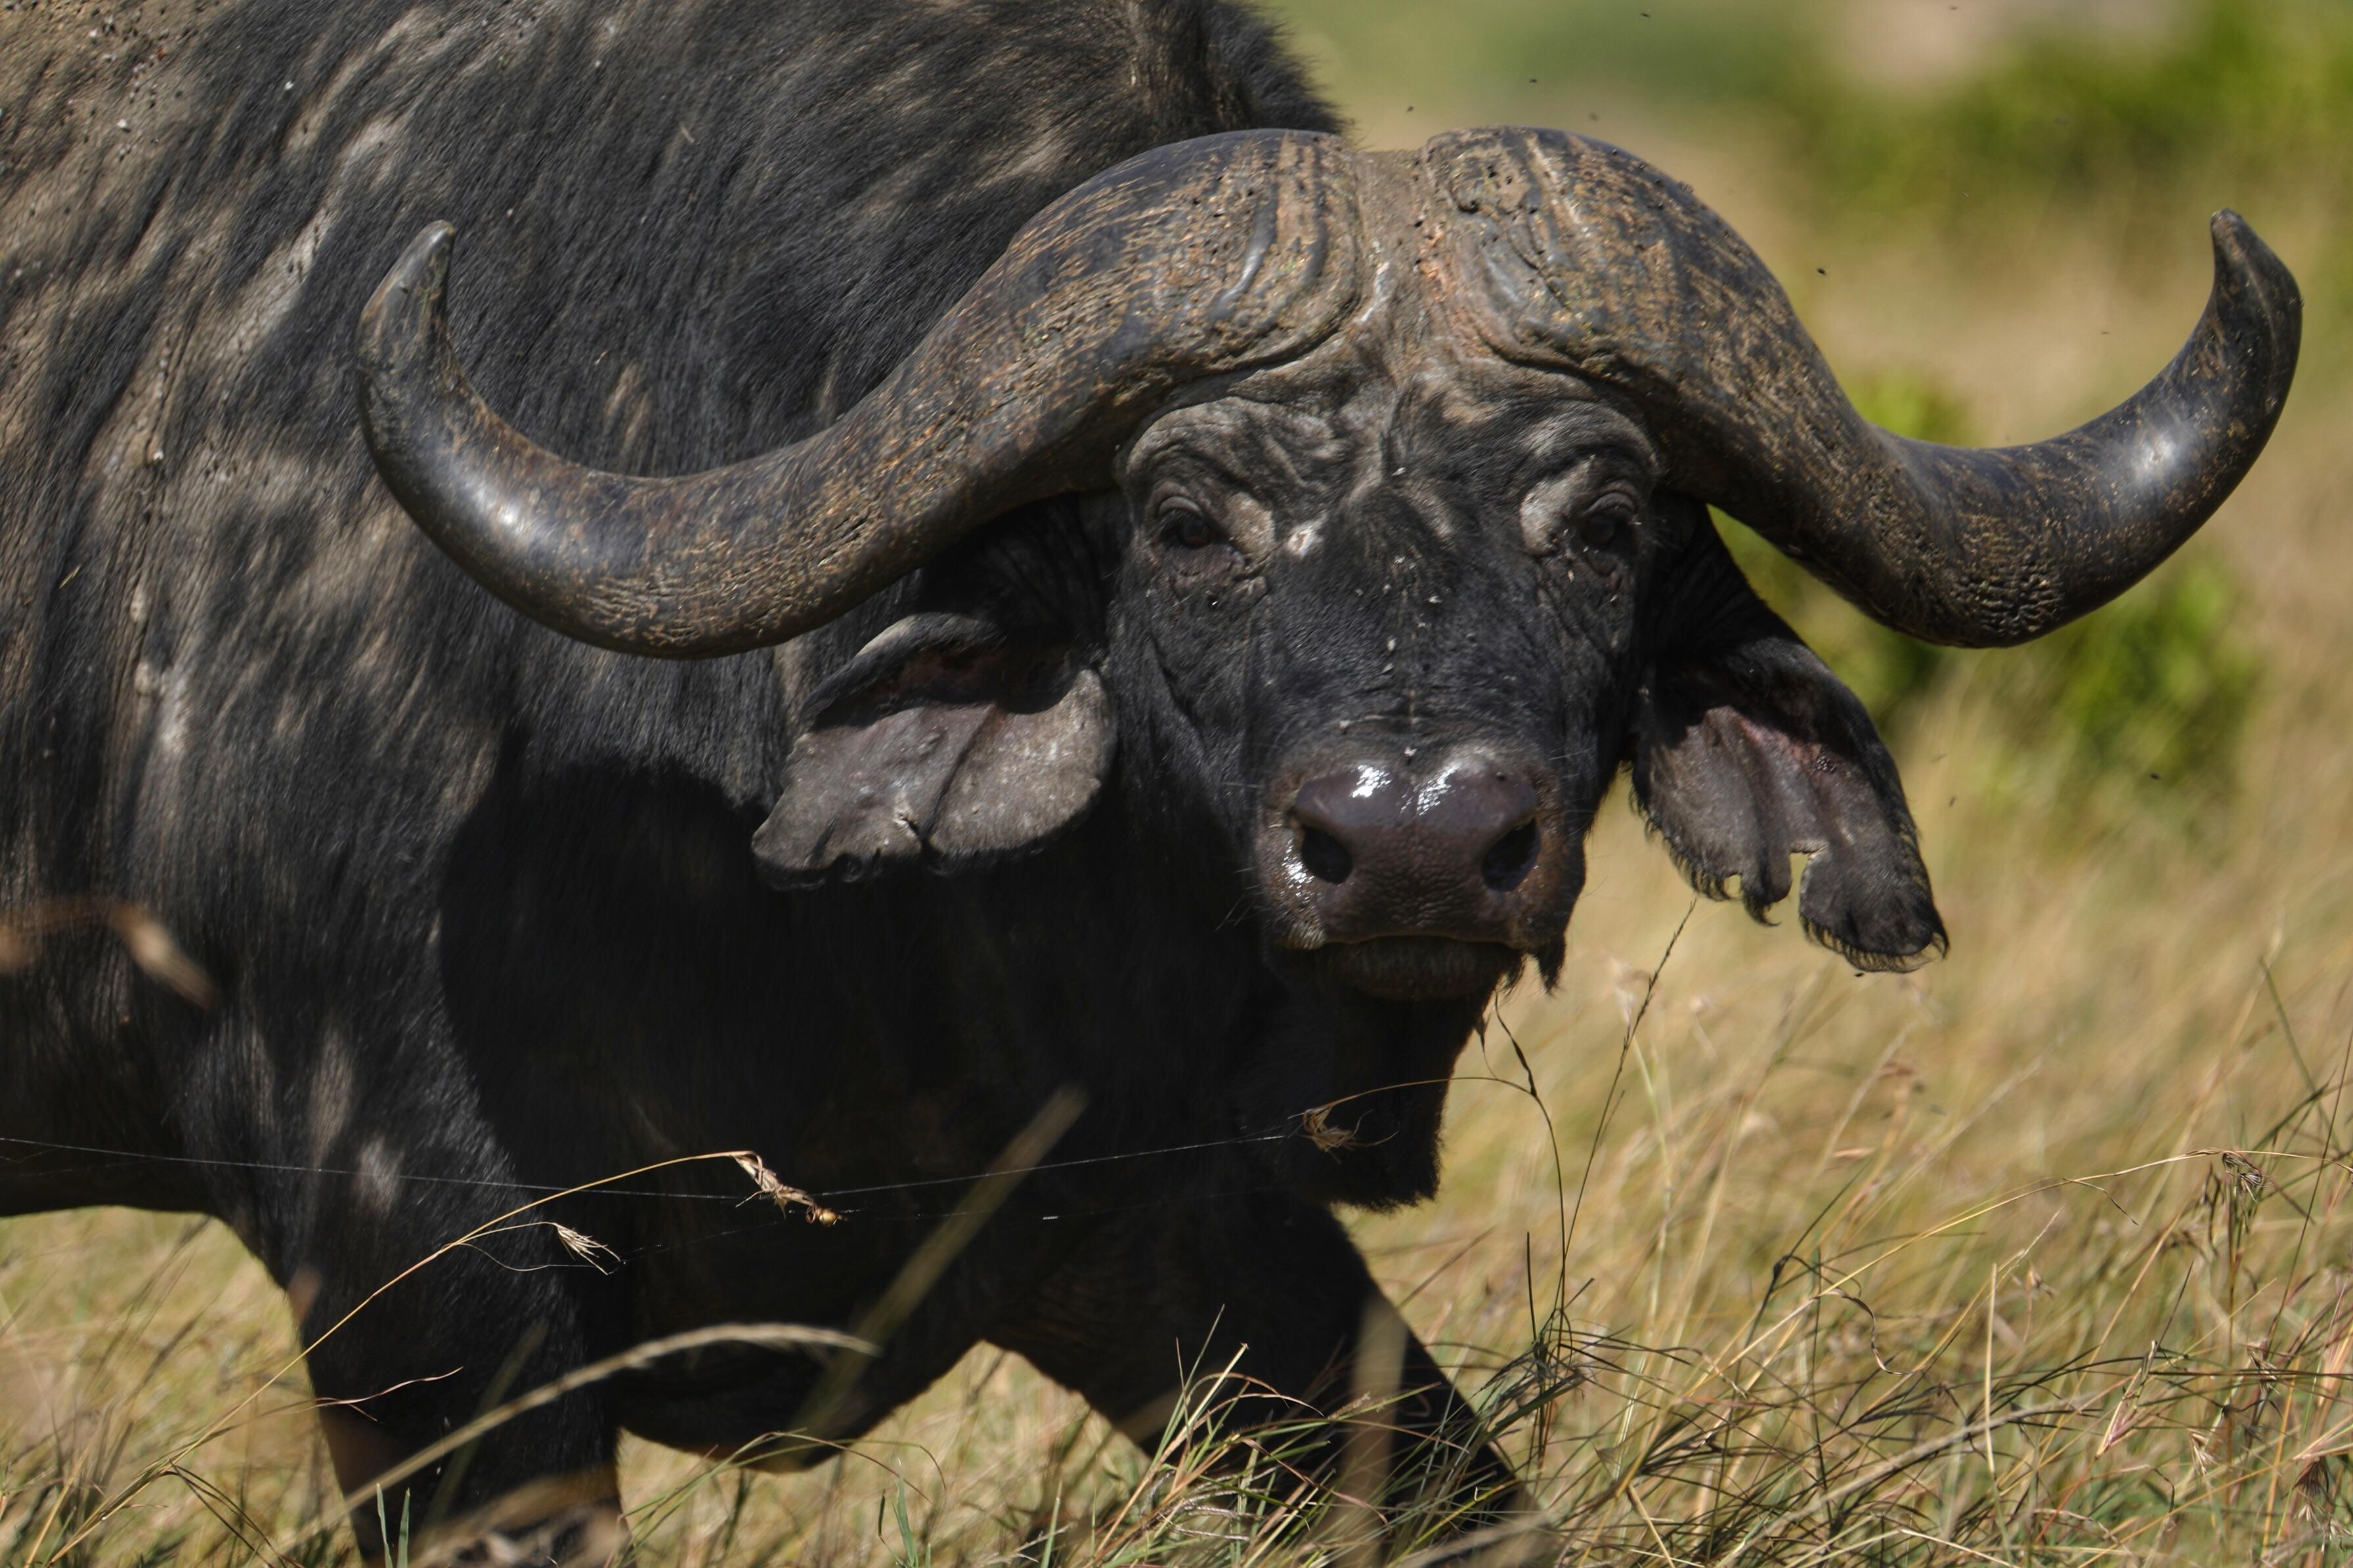buffalo: (12, 10, 2307, 1552)
